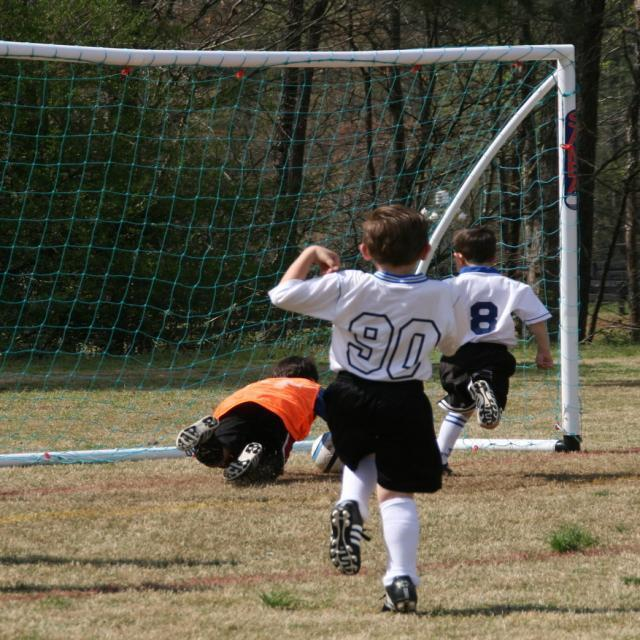ball: (311, 432, 344, 475)
